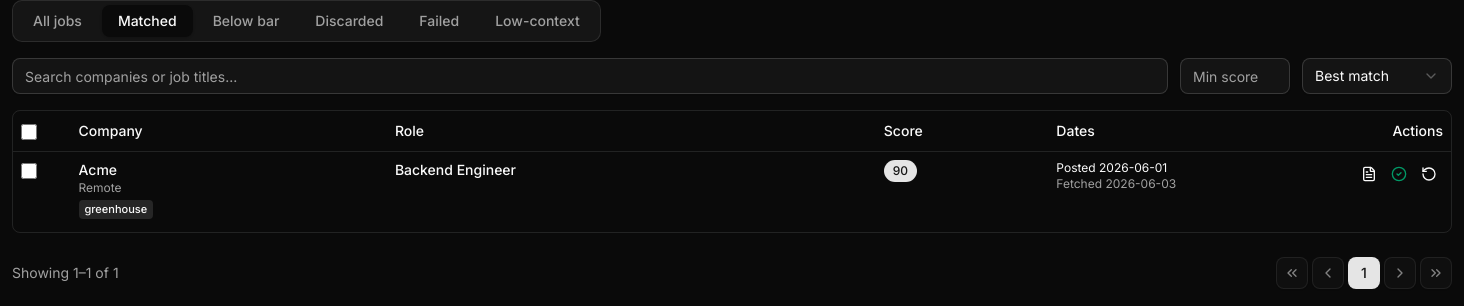
Scenario: DiscoveredJobsTable › renders the disqualification reason in the Discarded bucket why-cell
The image size is (1464, 306).
Click the button "Discarded". click: (349, 21)
box: [299, 5, 399, 37]
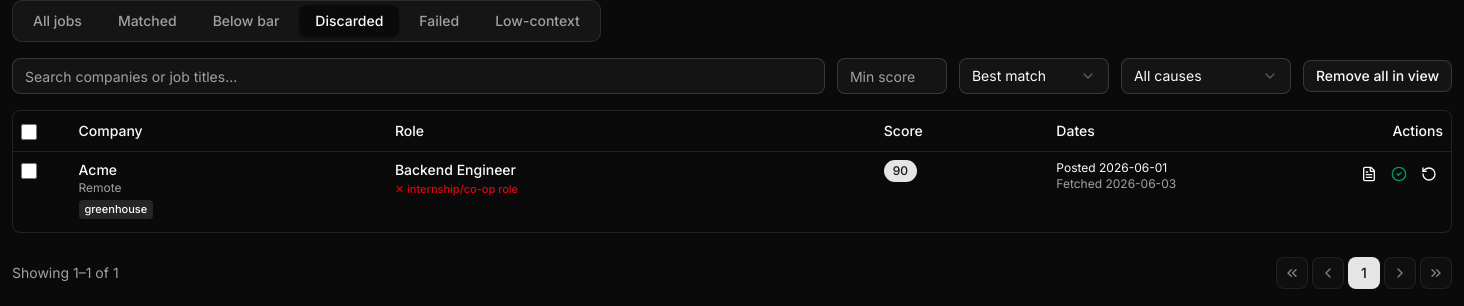
expect the text "✕ internship/co-op role" is shown: met, box [395, 182, 518, 196]
